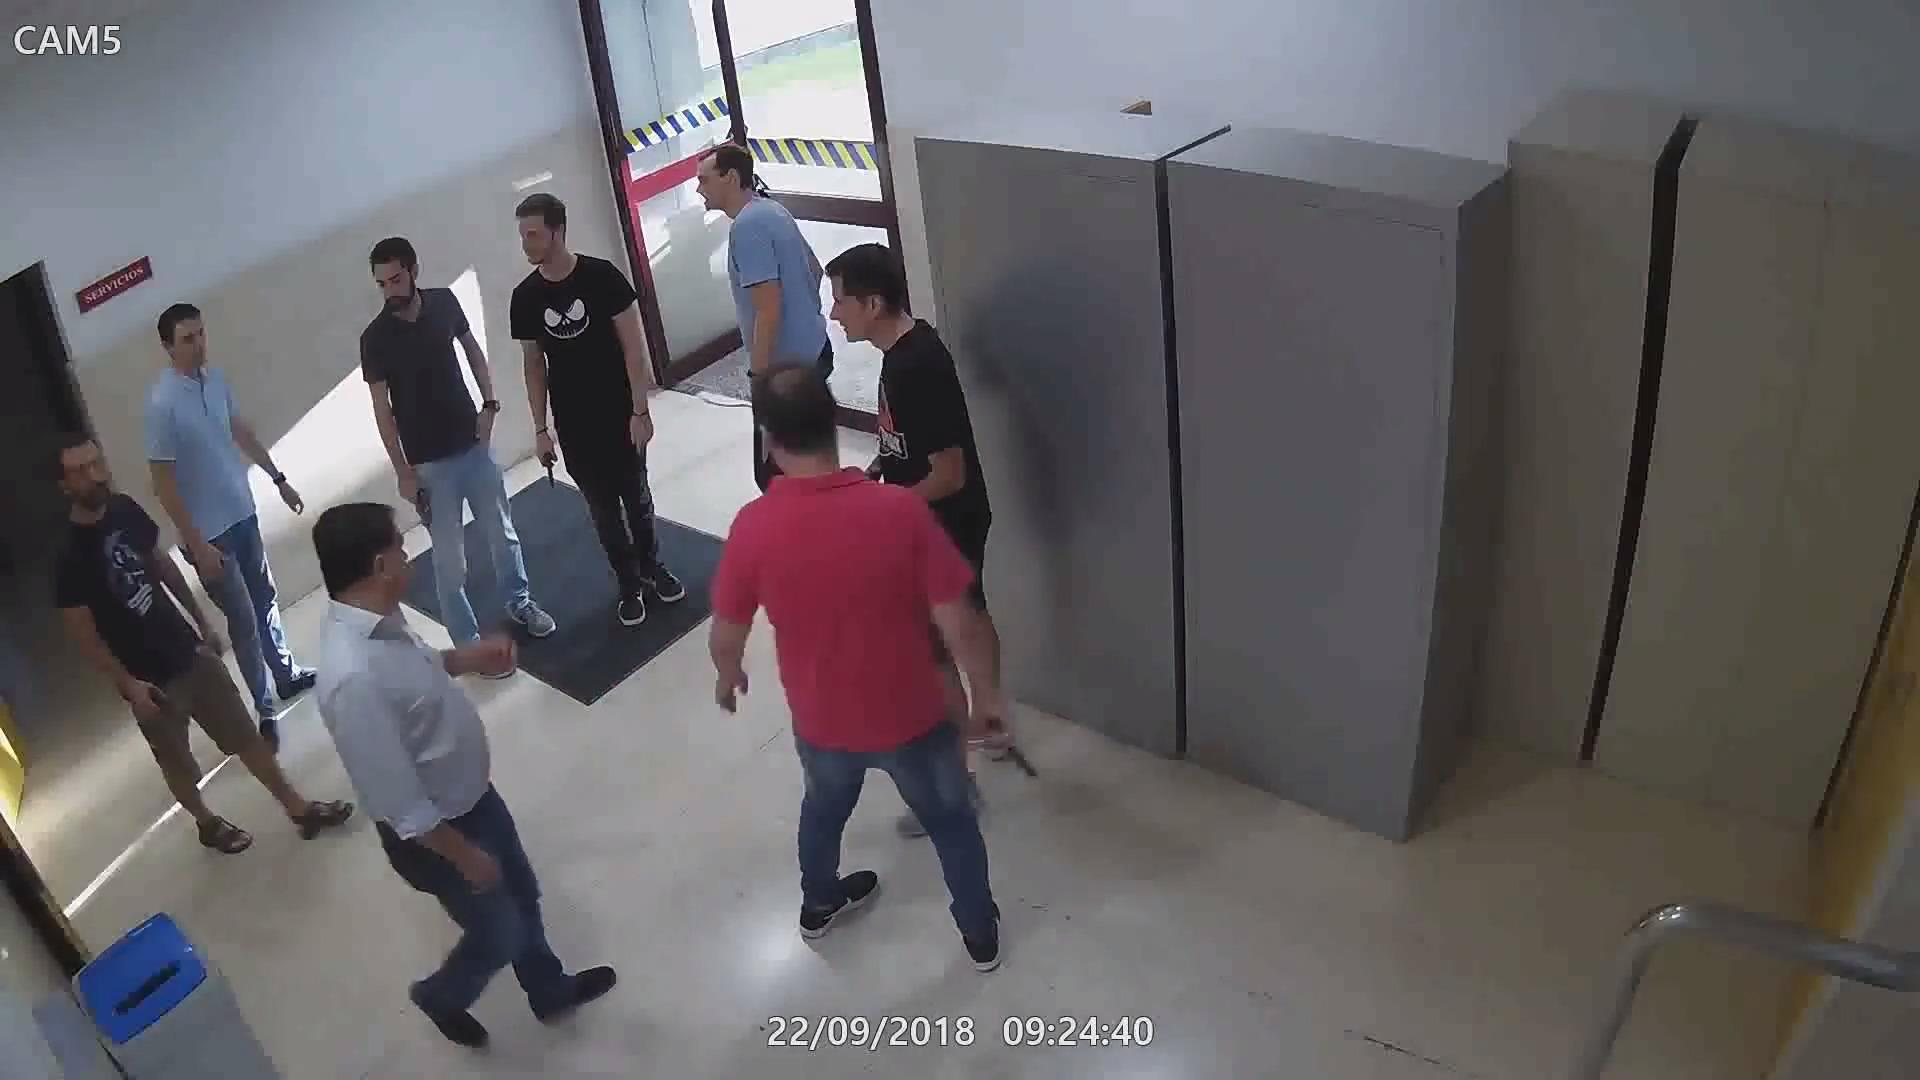Handgun: (968, 709, 1047, 785), (116, 678, 195, 733), (390, 467, 434, 527), (526, 430, 563, 491)
